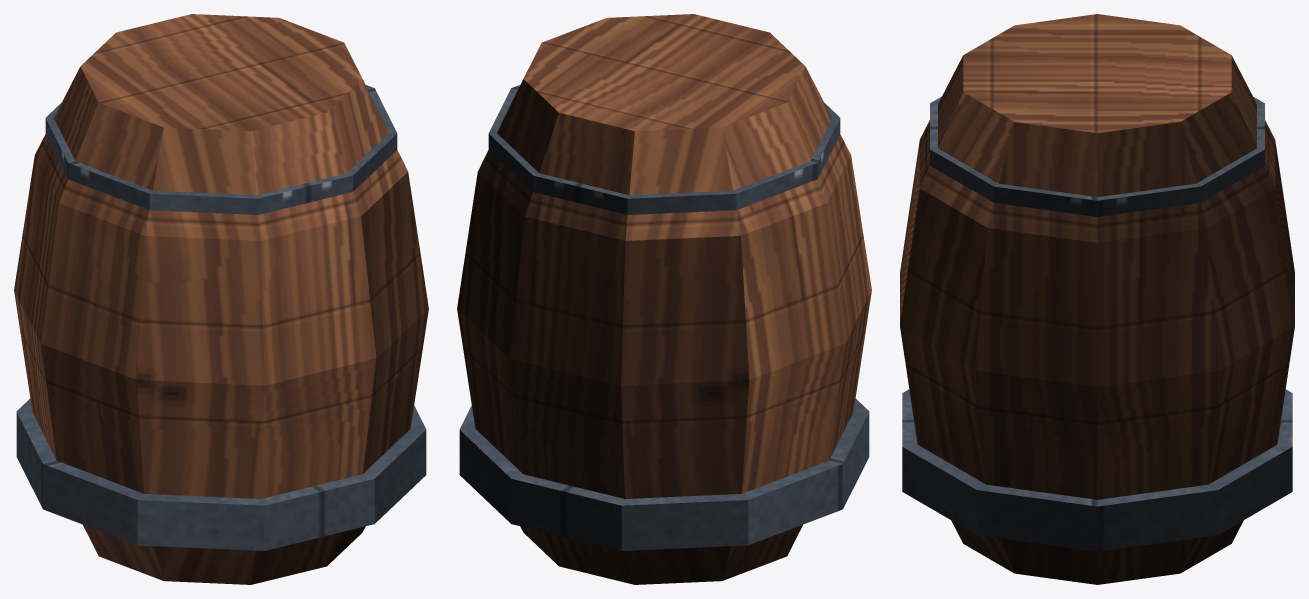
File: barrel.glb
3 views of the same model, side by side, from view 1: azimuth 30°, elevation 25°; view 2: azimuth 150°, elevation 25°; view 3: azimuth 270°, elevation 25° (orthographic).
Visible parts, largest first — view 1: barrel; view 2: barrel; view 3: barrel.
Boxes of the visible parts, <box> form: barrel: <box>14,14,428,584</box>; barrel: <box>457,14,871,584</box>; barrel: <box>900,14,1294,584</box>.
Bounding box in the file's own units: 0.65 × 0.782 × 0.6182.
Materials: 3 (3 with a texture image).
